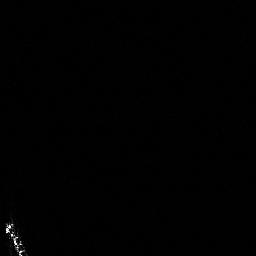ship: (1, 216, 30, 256)
